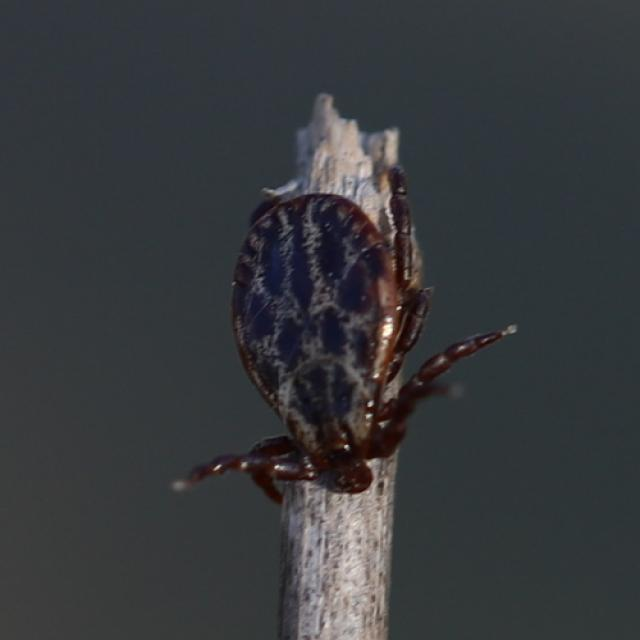Dermacentor Reticulatus-M: (187, 171, 517, 503)
